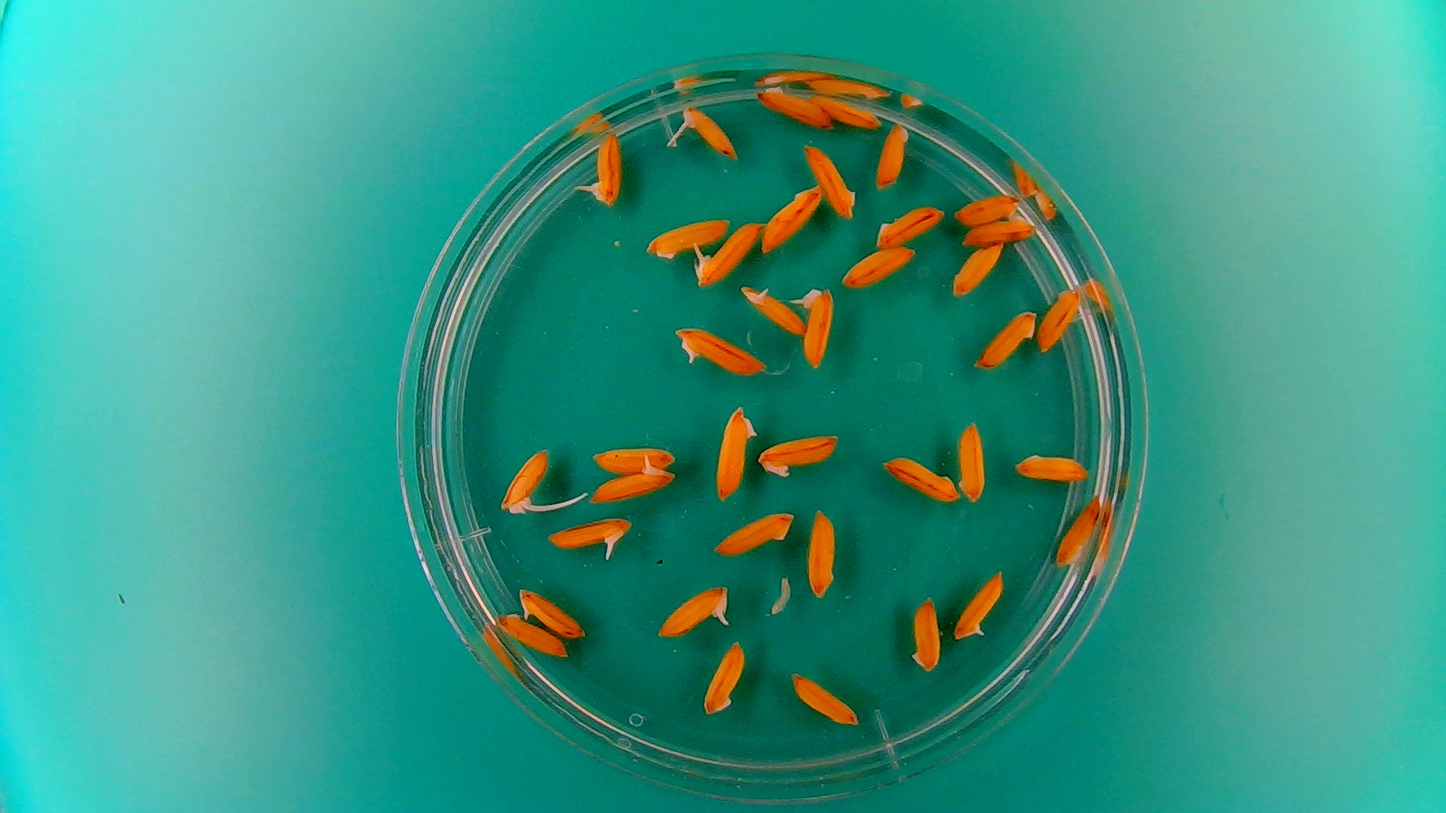no: (758, 182, 824, 254), (712, 400, 758, 503), (709, 507, 796, 559), (786, 668, 862, 727), (756, 429, 843, 479), (802, 142, 859, 218), (972, 307, 1037, 371), (879, 453, 960, 504), (1053, 493, 1105, 569), (647, 214, 730, 261), (700, 636, 747, 717), (839, 243, 919, 290), (492, 610, 568, 657), (755, 83, 832, 129), (584, 440, 679, 477), (874, 202, 946, 249), (1036, 284, 1083, 355), (804, 505, 838, 600), (950, 241, 1005, 297), (1011, 447, 1092, 484), (954, 416, 988, 504), (908, 592, 944, 675), (810, 94, 882, 130), (874, 120, 911, 190), (953, 190, 1022, 225), (962, 214, 1037, 245)
yes: (499, 443, 587, 517), (671, 322, 769, 379), (690, 217, 762, 288), (652, 580, 734, 640), (951, 565, 1008, 644), (586, 460, 676, 506), (545, 513, 633, 559), (789, 283, 835, 369), (737, 282, 807, 337), (673, 102, 739, 160), (517, 586, 587, 639), (578, 127, 624, 207)
